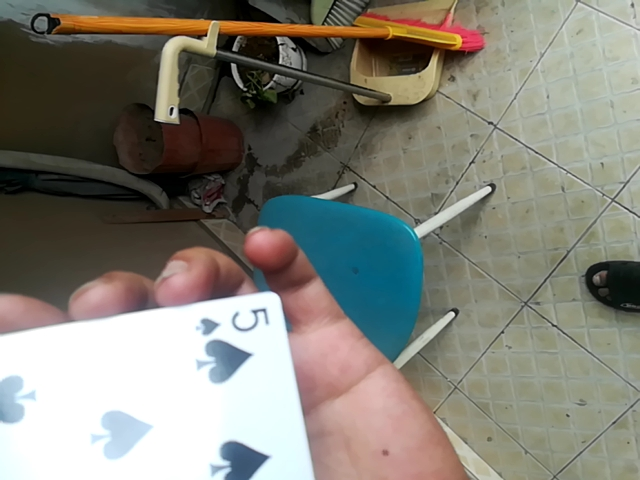ht 5: (0, 284, 328, 480)
